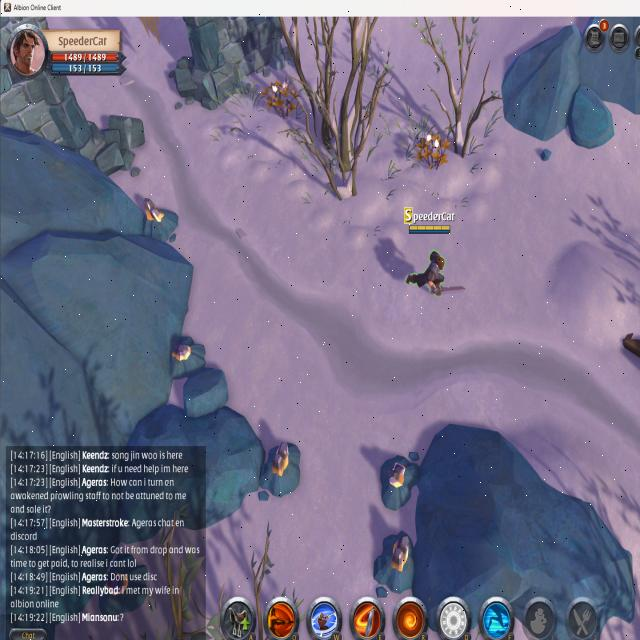copper: (371, 523, 418, 599), (260, 434, 304, 502), (375, 454, 422, 509), (140, 195, 178, 243), (167, 335, 206, 380)
cotton: (261, 78, 298, 125), (416, 130, 451, 173)
